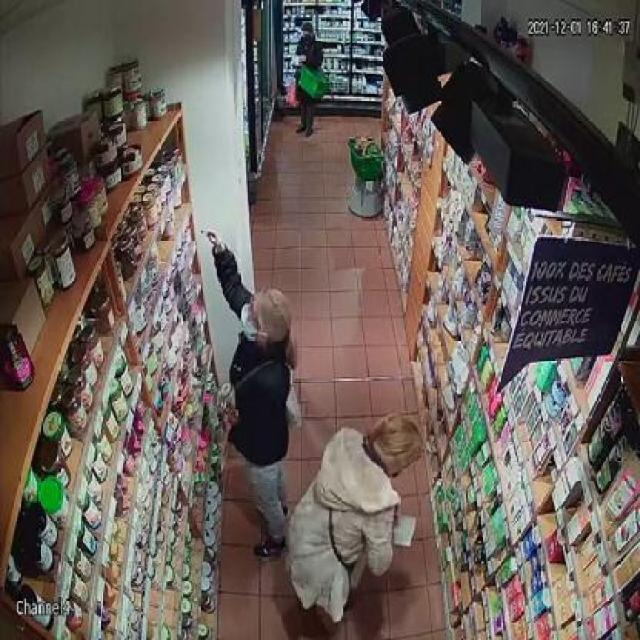Shoplifting: (284, 398, 439, 620)
